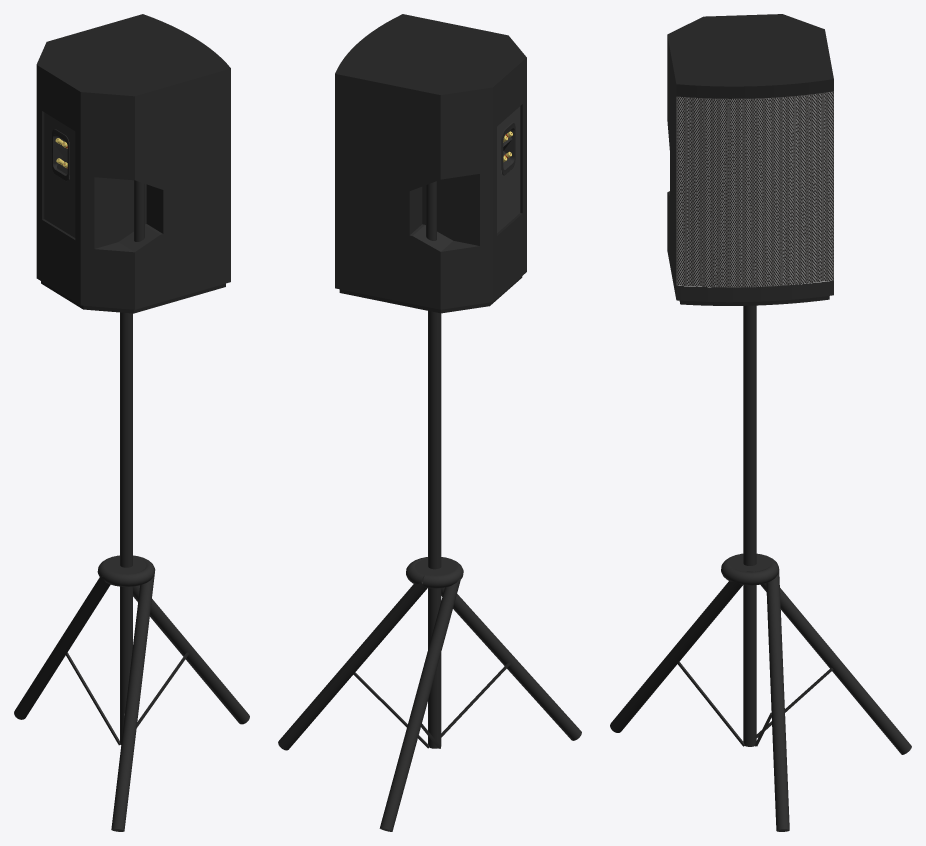
Rendered from speakers_standing_tripod.glb.
The picture shows the model from 3 angles, left to right: view 1: azimuth 30°, elevation 25°; view 2: azimuth 150°, elevation 25°; view 3: azimuth 270°, elevation 25°; orthographic projection.
Visible parts, largest first — view 1: Object_15, Object_11, Object_3, Object_10, Object_2; view 2: Object_15, Object_11, Object_3, Object_10, Object_2; view 3: Object_8, Object_11, Object_3, Object_15.
Boxes of the visible parts, x1,y1,x2,y2 form: Object_15: [36, 77, 230, 295]; Object_11: [14, 312, 249, 831]; Object_3: [36, 14, 230, 313]; Object_10: [36, 65, 230, 309]; Object_2: [44, 112, 75, 237]; Object_15: [335, 70, 526, 294]; Object_11: [278, 311, 581, 831]; Object_3: [335, 14, 526, 313]; Object_10: [335, 57, 526, 309]; Object_2: [497, 106, 520, 232]; Object_8: [676, 91, 833, 287]; Object_11: [610, 305, 911, 831]; Object_3: [667, 14, 833, 305]; Object_15: [667, 48, 833, 302].
Size of the model in its own units: 0.827 by 2.56 by 0.977.
Materials: 20 (1 with a texture image).
